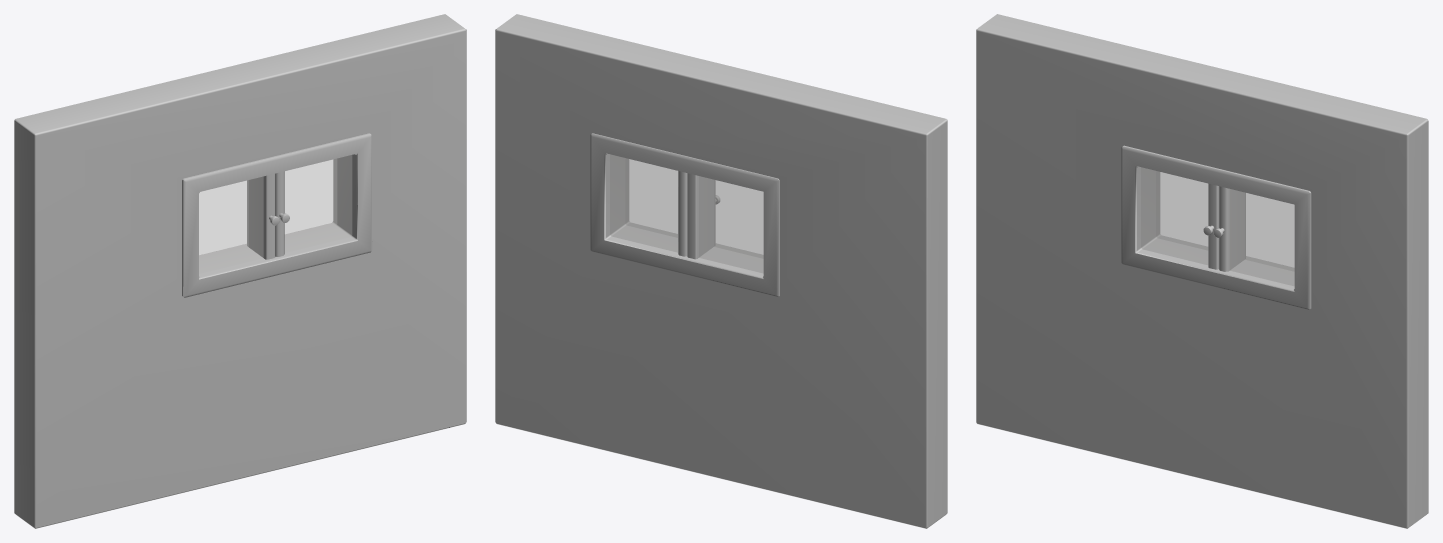
File: Wall_47.fbx
3 views of the same model, side by side, from view 1: azimuth 30°, elevation 25°; view 2: azimuth 150°, elevation 25°; view 3: azimuth 330°, elevation 25° (orthographic).
Parts seen in each view (by area): view 1: Wall_47; view 2: Wall_47; view 3: Wall_47.
Boxes of the visible parts, x1,y1,x2,y2 form: Wall_47: [14, 14, 466, 528]; Wall_47: [495, 14, 947, 528]; Wall_47: [976, 14, 1428, 528].
Size of the model in its own units: 460 by 402 by 50.65.
